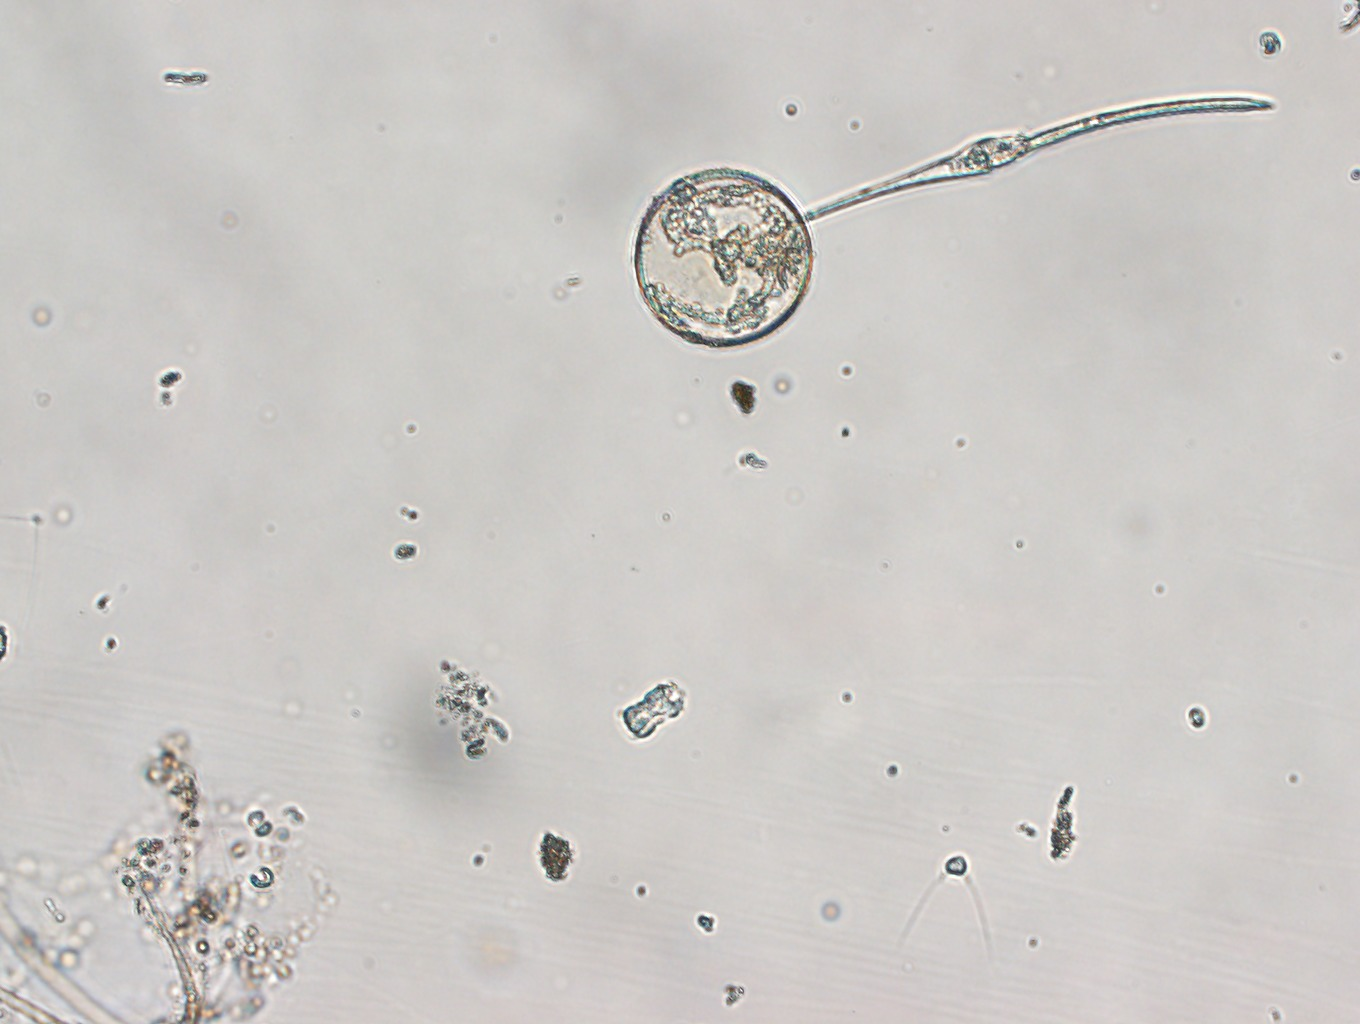ceratium fusus: (803, 93, 1277, 222)
coscinodiscus: (630, 167, 816, 350)
